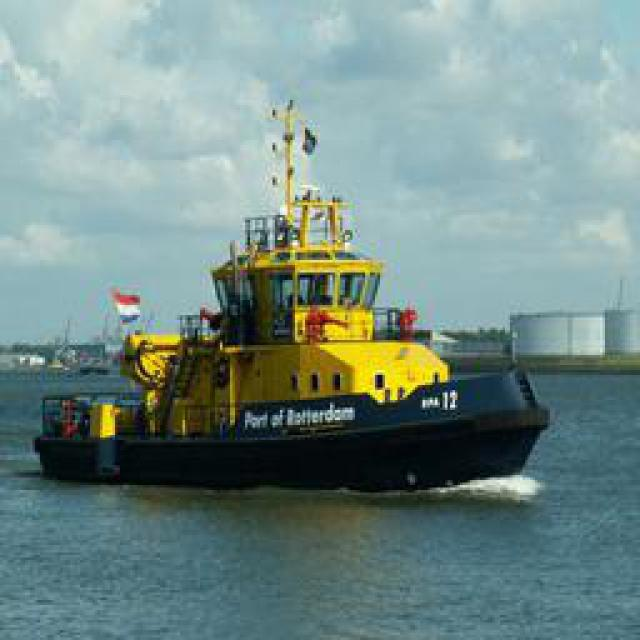Ship: (37, 95, 555, 498)
